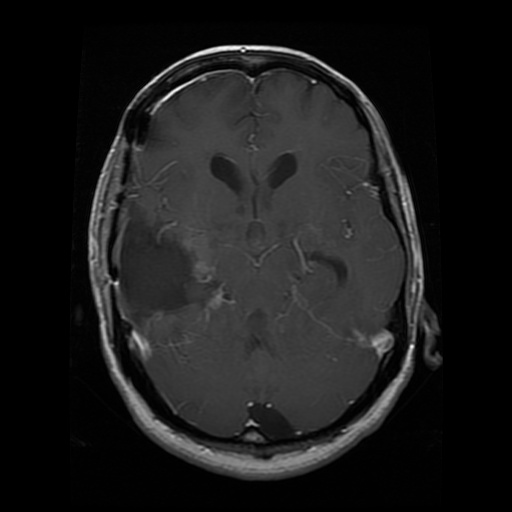glioma: (122, 203, 203, 312)
